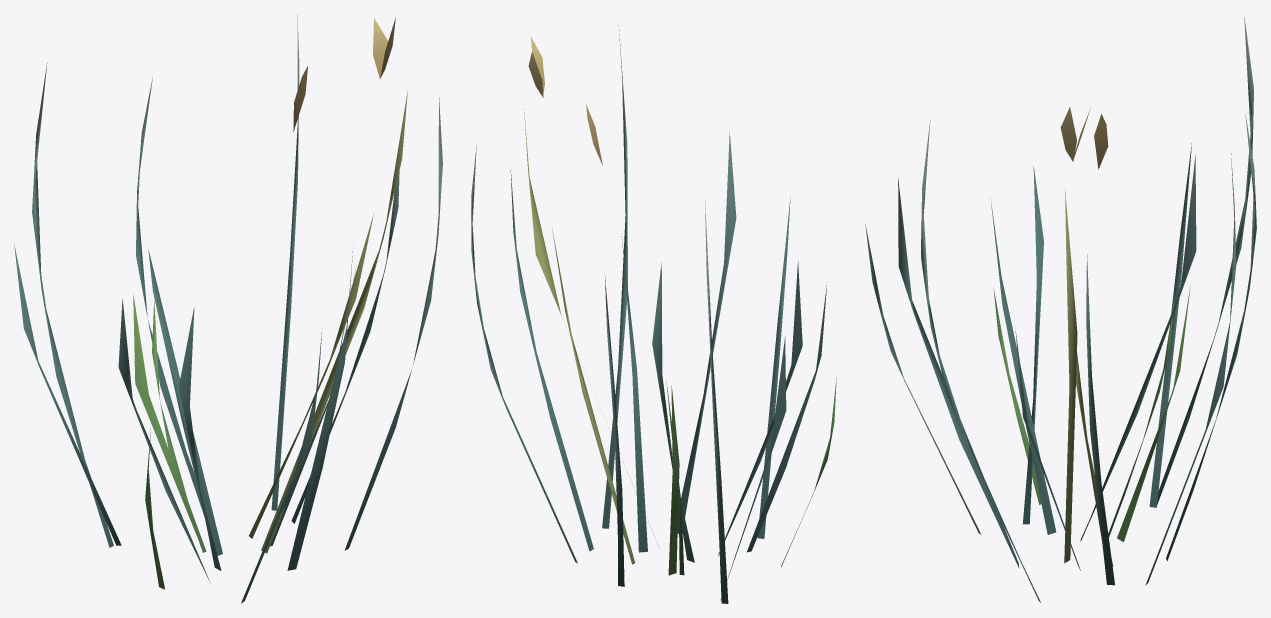
The model's file is TuftedRushClump_LOD1.glb.
3 renders of one model, left to right at view 1: azimuth 30°, elevation 25°; view 2: azimuth 150°, elevation 25°; view 3: azimuth 270°, elevation 25°, orthographic. The views are drawn at different scales.
Parts seen in each view (by area): view 1: TuftedRushClump_LOD1; view 2: TuftedRushClump_LOD1; view 3: TuftedRushClump_LOD1.
Part boxes in pixels (bbox=[...]): TuftedRushClump_LOD1: bbox=[14, 15, 442, 603]; TuftedRushClump_LOD1: bbox=[471, 20, 836, 603]; TuftedRushClump_LOD1: bbox=[865, 17, 1256, 602].
Size of the model in its own units: 0.2887 by 0.4166 by 0.2801.
